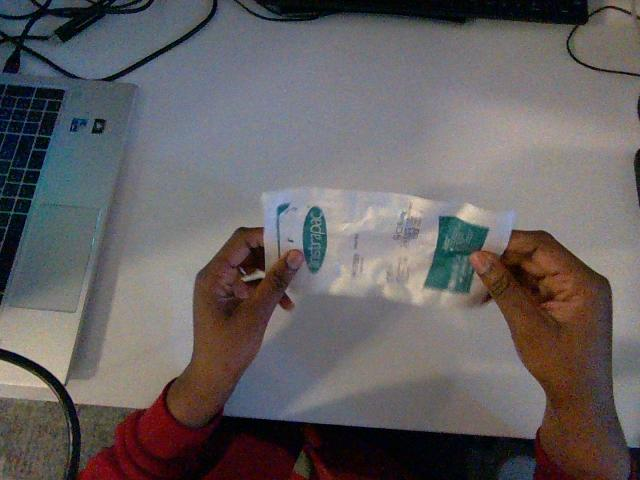gallipot: (262, 188, 513, 304)
